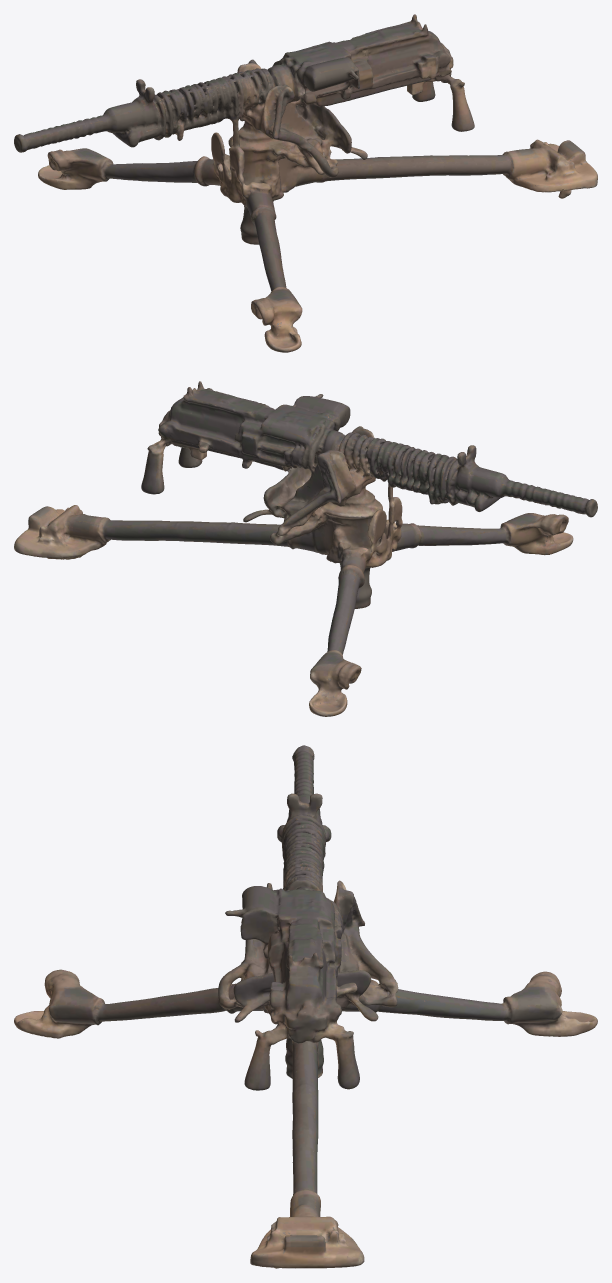
The model's file is Type 92 Heavy Machine Gun.glb.
3 views of the same model, one above another, from view 1: azimuth 30°, elevation 25°; view 2: azimuth 150°, elevation 25°; view 3: azimuth 270°, elevation 25° (orthographic). The views are drawn at different scales.
Size of the model in its own units: 2 by 0.6948 by 1.52.
1 material, 1 textured.
